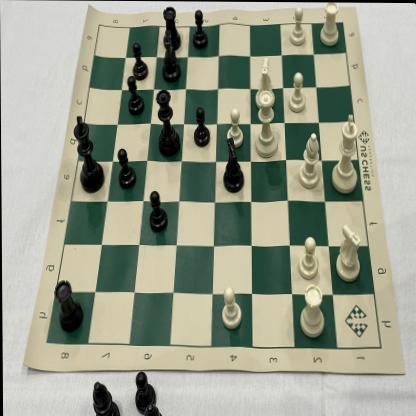black-king: (71, 112, 108, 197)
black-knight: (219, 135, 247, 194), (158, 30, 184, 84)
black-pawn: (145, 187, 169, 233), (115, 143, 137, 192), (191, 105, 213, 149), (125, 74, 145, 118), (190, 7, 210, 51), (130, 41, 149, 83)
black-queen: (154, 89, 184, 161)
black-rook: (53, 270, 85, 334), (162, 3, 184, 50)
white-bishop: (295, 128, 324, 191)
white-king: (330, 112, 364, 198)
white-pawn: (220, 282, 244, 333), (284, 69, 309, 116), (296, 233, 320, 281), (225, 105, 247, 149), (289, 5, 309, 47)
white-queen: (251, 89, 281, 159)
white-rook: (333, 220, 365, 284), (297, 280, 329, 340), (252, 52, 278, 109), (317, 2, 345, 48)
